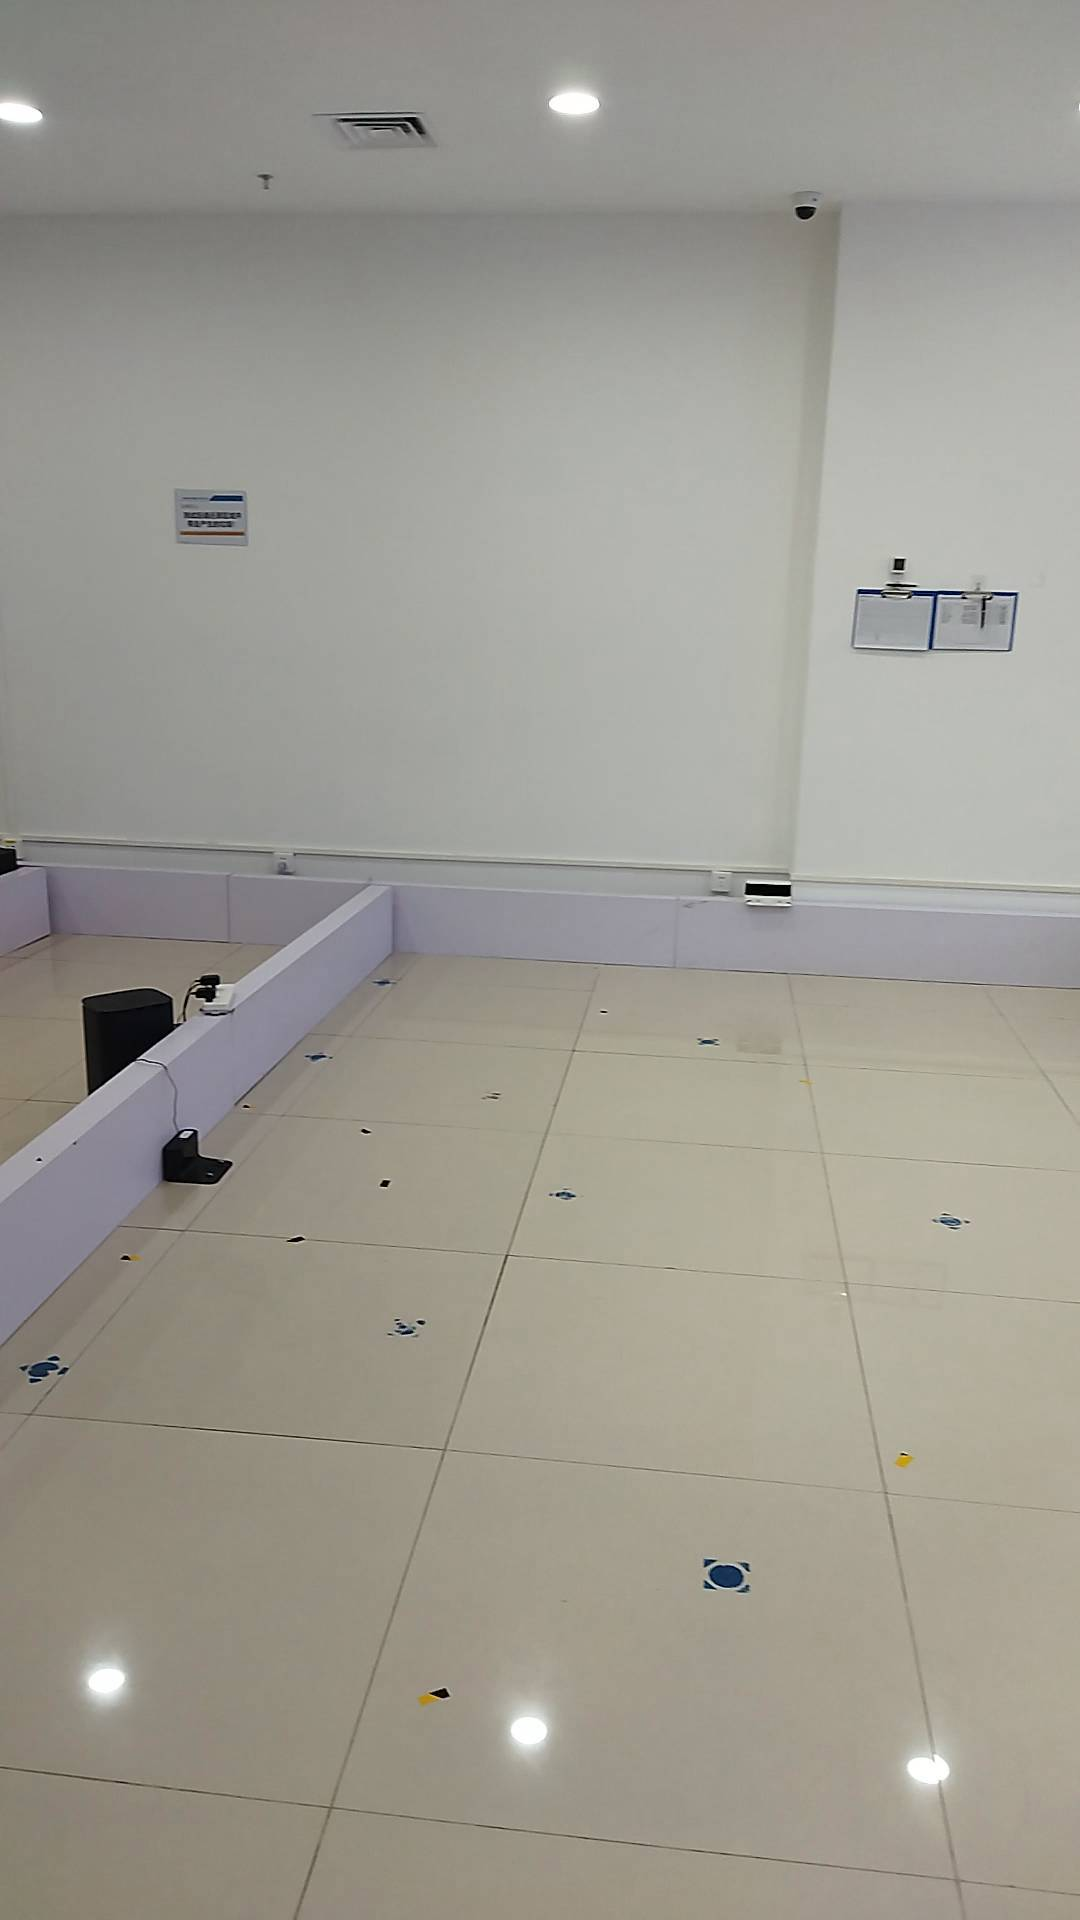dust collecting barrel: (76, 988, 175, 1097)
recharge seat: (164, 1131, 236, 1185)
